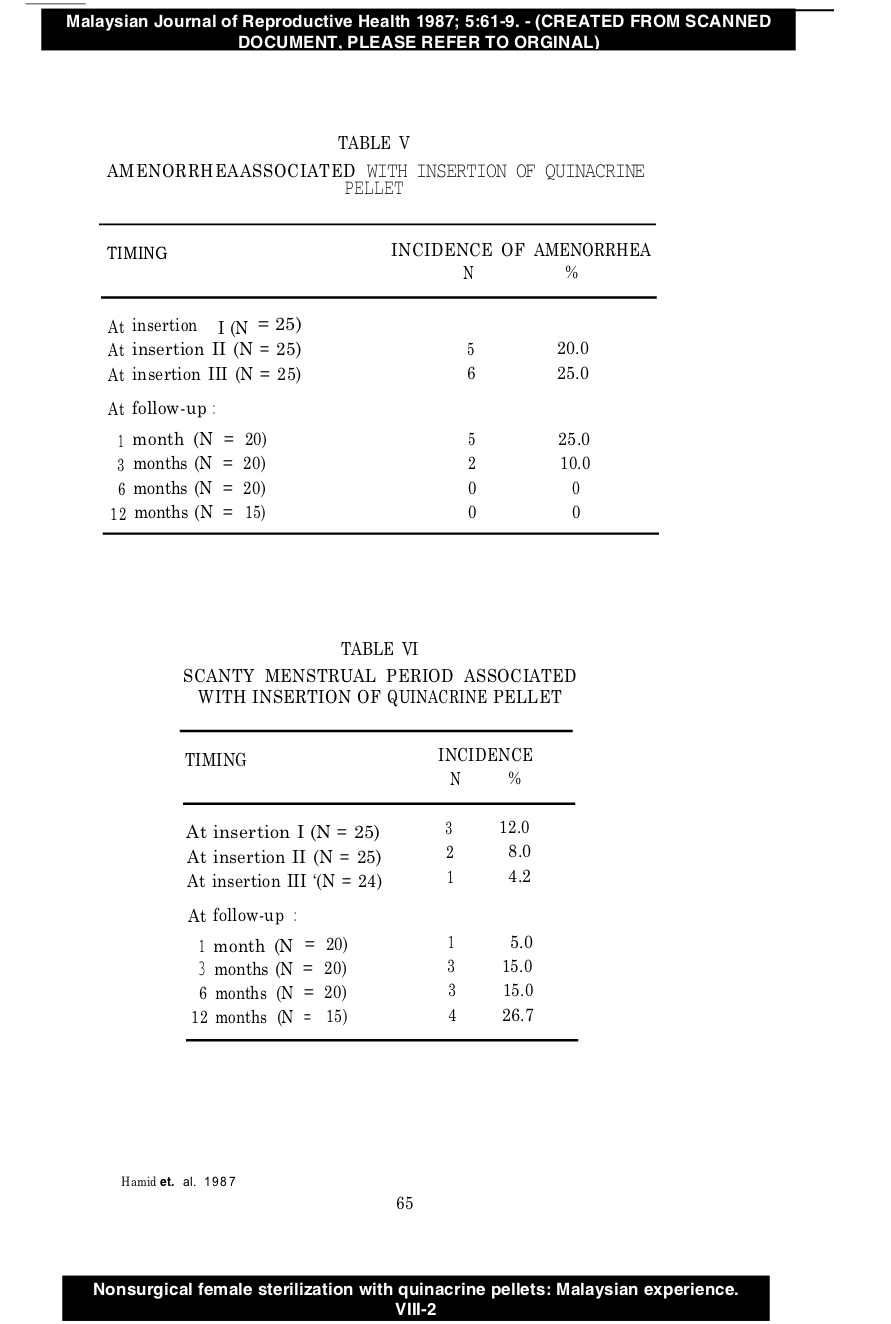Table: (99, 223, 658, 534), (179, 729, 578, 1041)
figure: (62, 1272, 769, 1321)
